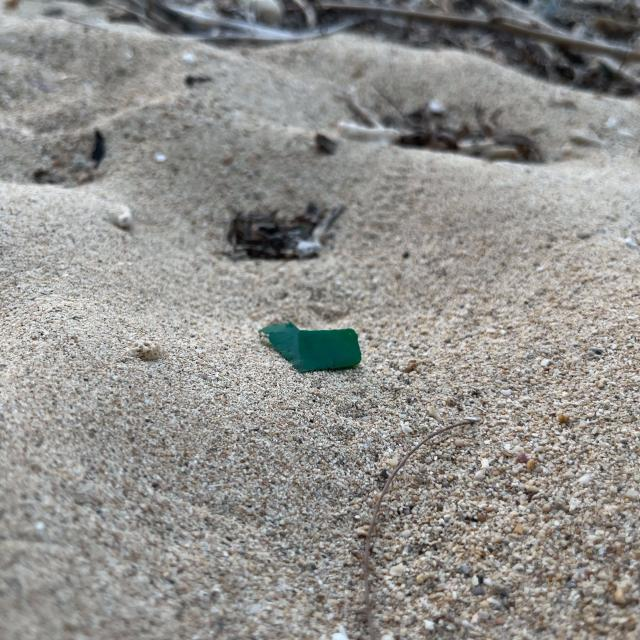seaweed: (206, 193, 354, 273)
trash: (251, 315, 367, 375)
